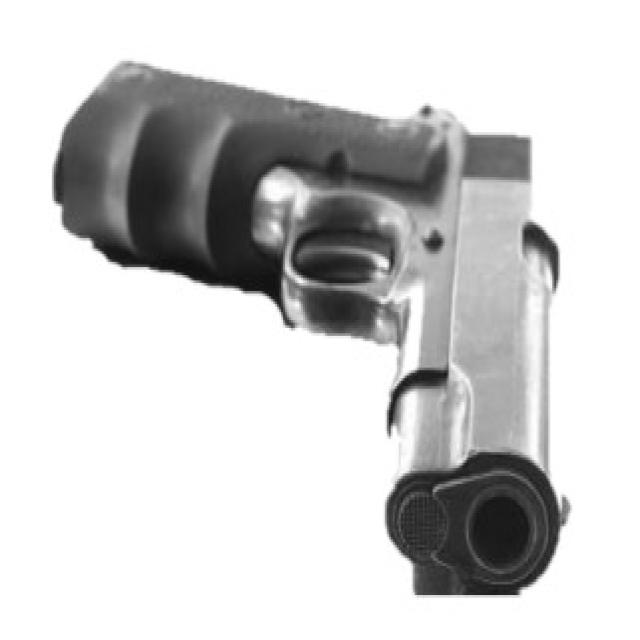pistol: (48, 42, 584, 621)
